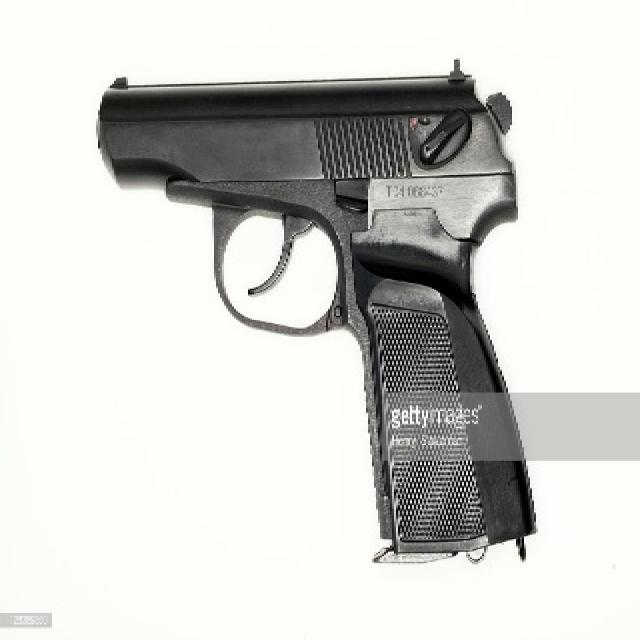handgun: (95, 65, 541, 566)
